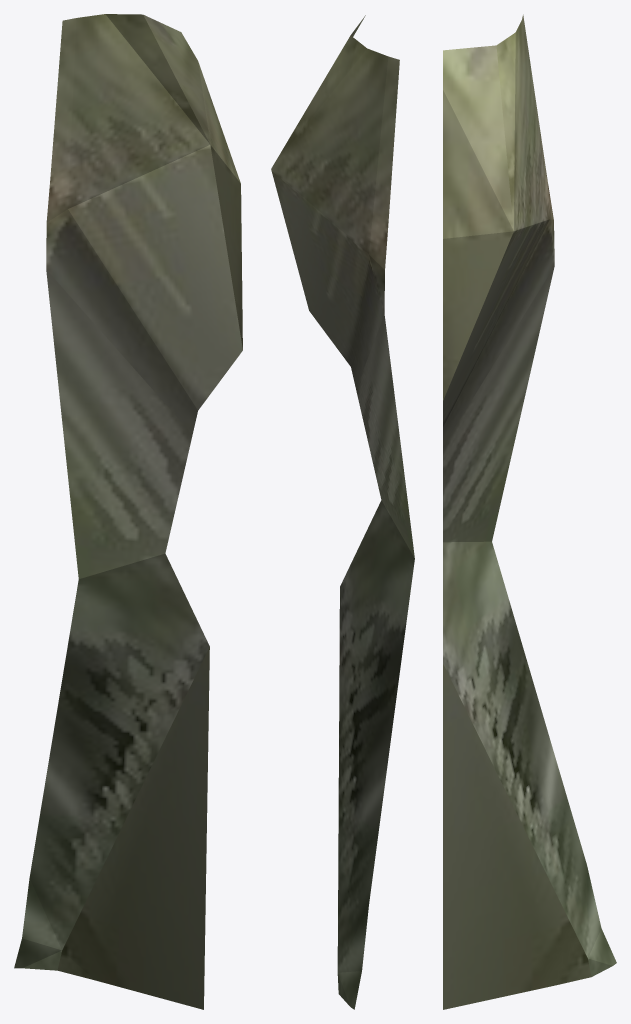
The picture shows the model from 3 angles, left to right: view 1: azimuth 30°, elevation 25°; view 2: azimuth 150°, elevation 25°; view 3: azimuth 270°, elevation 25°; orthographic projection. The views are drawn at different scales.
Size of the model in its own units: 0.4488 by 2.95 by 0.4898.
1 material, 1 textured.
